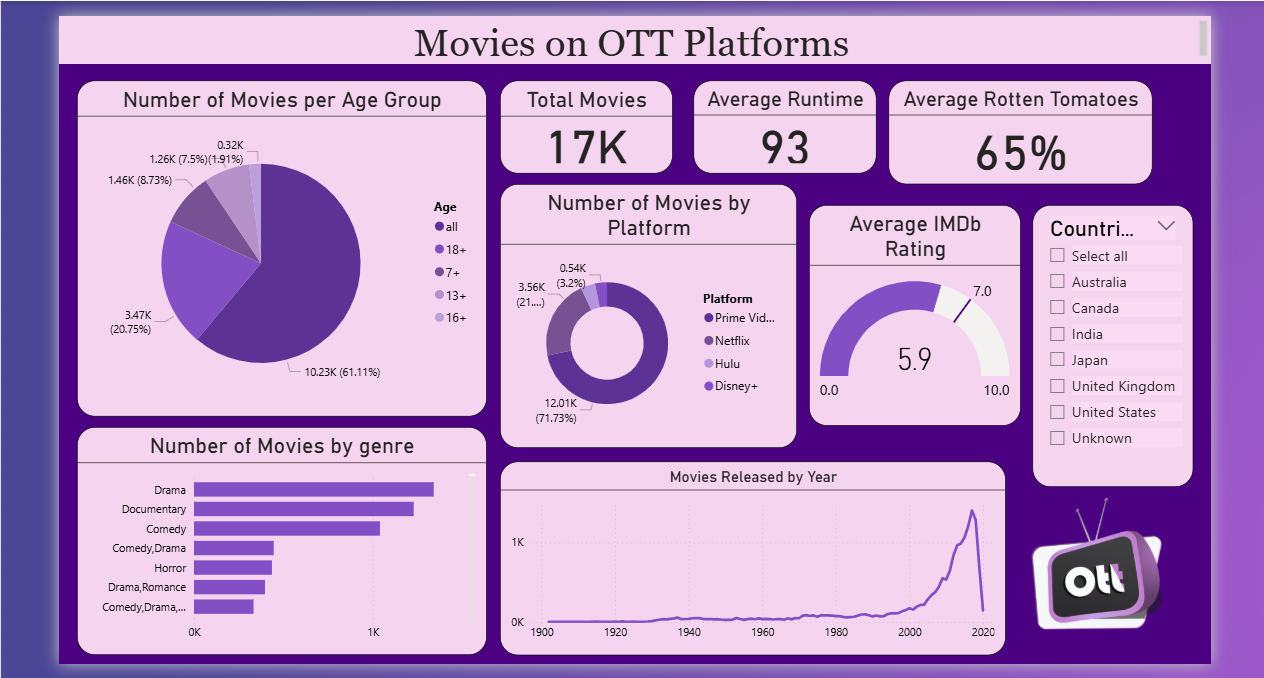

The page's visual inventory and layout, read from the dashboard file:
{"tool":"powerbi","page":{"name":"Page 1","canvas":[1280,720],"ordinal":0},"visuals":[{"type":"textbox","box":[0,0,1280,53.3],"z":0},{"type":"card","title":"Total Movies","fields":{"Values":["Count(MoviesOnStreamingPlatforms_updated.Title)"]},"box":[490,71.7,191.7,103.3],"z":1000},{"type":"card","title":"Average Rotten Tomatoes","fields":{"Values":["Avg(MoviesOnStreamingPlatforms_updated.Rotten Tomatoes)"]},"box":[921.7,71.7,293.3,115],"z":2000},{"type":"pieChart","title":"Number of Movies per Age Group","fields":{"Category":["MoviesOnStreamingPlatforms_updated.Age"],"Y":["CountNonNull(MoviesOnStreamingPlatforms_updated.ID)"]},"box":[20,71.7,455,373.3],"z":3000},{"type":"donutChart","title":"Number of Movies by Platform","fields":{"Category":["MoviesOnStreamingPlatforms_updated.Platform"],"Y":["CountNonNull(MoviesOnStreamingPlatforms_updated.ID)"]},"box":[490,186.7,330,293.3],"z":4000},{"type":"barChart","title":"Number of Movies by genre","fields":{"Y":["CountNonNull(MoviesOnStreamingPlatforms_updated.ID)"],"Category":["MoviesOnStreamingPlatforms_updated.Genres"]},"box":[20,456.7,455,253.3],"z":5000},{"type":"lineChart","title":"Movies Released  by Year","fields":{"Category":["MoviesOnStreamingPlatforms_updated.Year"],"Y":["CountNonNull(MoviesOnStreamingPlatforms_updated.ID)"]},"box":[490,495,561.7,215],"z":6000},{"type":"slicer","fields":{"Values":["MoviesOnStreamingPlatforms_updated.Country"]},"box":[1081.7,210,178.3,313.3],"z":7000},{"type":"card","title":"Average Runtime","fields":{"Values":["Avg(MoviesOnStreamingPlatforms_updated.Runtime)"]},"box":[705,71.7,203.3,103.3],"z":8000},{"type":"gauge","title":"Average IMDb Rating","fields":{"Y":["Avg(MoviesOnStreamingPlatforms_updated.IMDb)"]},"box":[833.3,210,235,245],"z":9000},{"type":"image","box":[1051.7,523.3,208.3,186.7],"z":10000}]}

Visuals, with their boxes in screenshot pixels (x1, y1, x2, y2):
textbox: {"left": 59, "top": 13, "right": 1206, "bottom": 61}
"Total Movies" card: {"left": 498, "top": 77, "right": 670, "bottom": 170}
"Average Rotten Tomatoes" card: {"left": 885, "top": 77, "right": 1148, "bottom": 180}
"Number of Movies per Age Group" pieChart: {"left": 77, "top": 77, "right": 485, "bottom": 412}
"Number of Movies by Platform" donutChart: {"left": 498, "top": 180, "right": 794, "bottom": 443}
"Number of Movies by genre" barChart: {"left": 77, "top": 422, "right": 485, "bottom": 649}
"Movies Released  by Year" lineChart: {"left": 498, "top": 457, "right": 1001, "bottom": 649}
slicer - MoviesOnStreamingPlatforms_updated.Country: {"left": 1028, "top": 201, "right": 1188, "bottom": 482}
"Average Runtime" card: {"left": 691, "top": 77, "right": 873, "bottom": 170}
"Average IMDb Rating" gauge: {"left": 806, "top": 201, "right": 1016, "bottom": 421}
image: {"left": 1001, "top": 482, "right": 1188, "bottom": 649}
